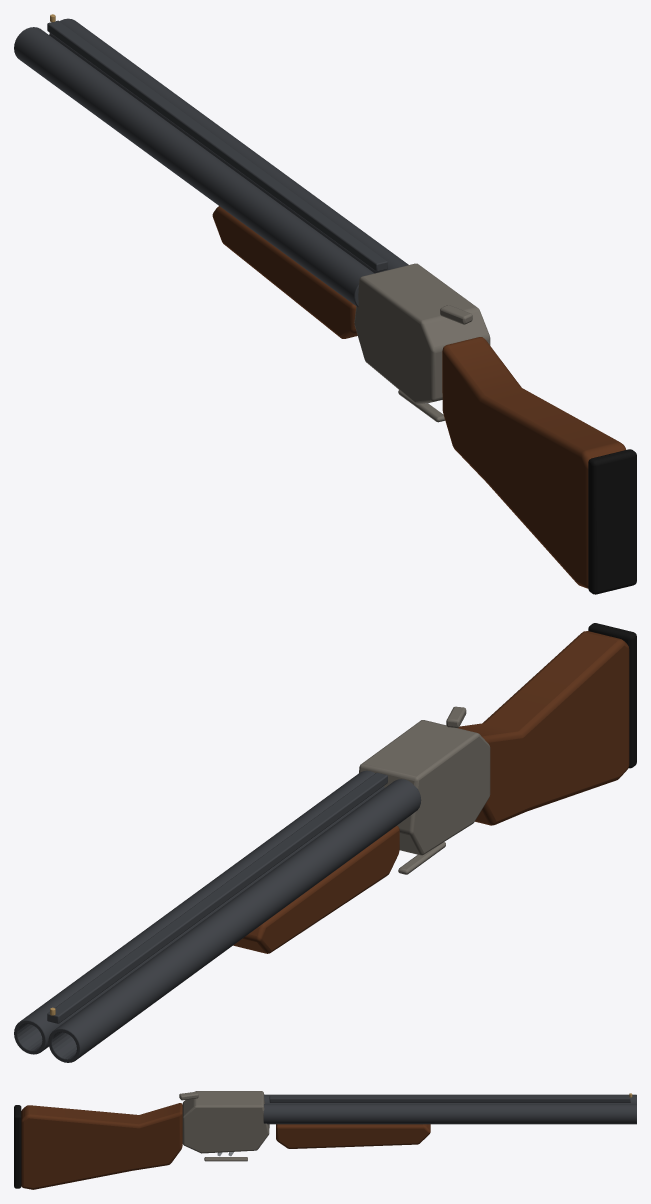
File: twinfang.glb
3 views of the same model, one above another, from view 1: azimuth 30°, elevation 25°; view 2: azimuth 150°, elevation 25°; view 3: azimuth 270°, elevation 25° (orthographic). The views are drawn at different scales.
Visible parts, largest first — view 1: stock, barrel-0.0175, action, butt, rib, barrel0.0175, forend; view 2: stock, barrel-0.0175, action, barrel0.0175, rib, forend, butt; view 3: stock, barrel0.0175, action, forend, rib, barrel-0.0175, butt, tguard.
Part boxes in pixels (x1,y1,x2,y2): stock: [442, 337, 626, 588]; barrel-0.0175: [14, 27, 374, 306]; action: [354, 263, 490, 404]; butt: [588, 449, 636, 594]; rib: [47, 20, 387, 271]; barrel0.0175: [49, 18, 408, 273]; forend: [212, 206, 357, 338]; stock: [458, 631, 629, 825]; barrel-0.0175: [48, 779, 421, 1062]; action: [359, 720, 490, 855]; barrel0.0175: [14, 770, 384, 1054]; rib: [47, 772, 387, 1023]; forend: [233, 826, 399, 953]; butt: [588, 623, 636, 768]; stock: [21, 1103, 182, 1189]; barrel0.0175: [263, 1104, 636, 1124]; action: [182, 1091, 269, 1153]; forend: [276, 1124, 430, 1148]; rib: [269, 1096, 630, 1102]; barrel-0.0175: [264, 1094, 636, 1103]; butt: [14, 1105, 21, 1188]; tguard: [204, 1157, 247, 1161].
Bounding box in the file's own units: 0.068 × 0.162 × 1.
